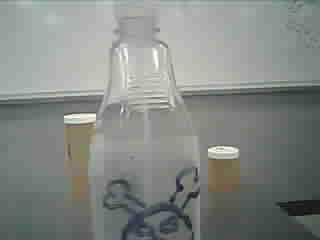Bottle A: (60, 108, 106, 203)
Bottle B: (205, 137, 249, 206)
hazard: (88, 2, 203, 239)
